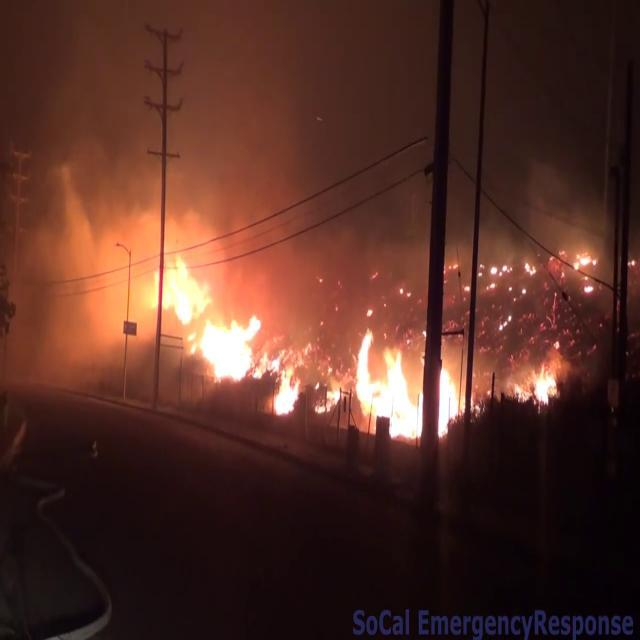Fire: (136, 242, 268, 383), (351, 318, 423, 440), (437, 352, 463, 438), (271, 356, 301, 420), (530, 356, 560, 406)
Smoke: (1, 1, 389, 350)
